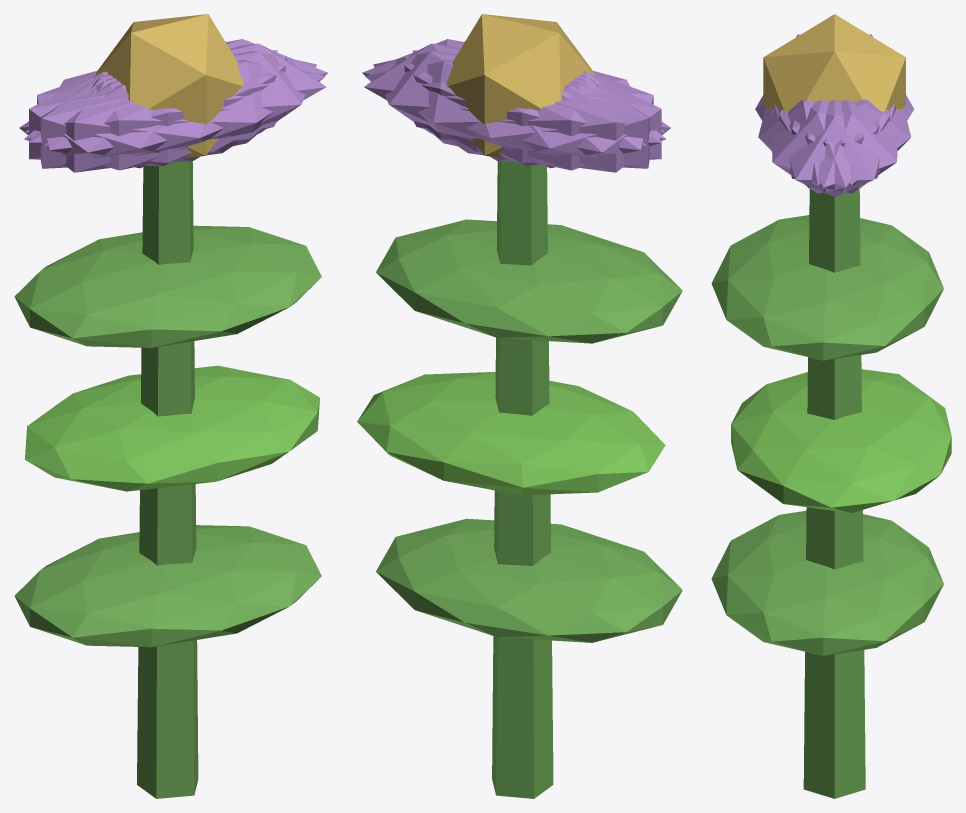
File: ficus-simplicissima.glb
3 renders of one model, left to right at view 1: azimuth 30°, elevation 25°; view 2: azimuth 150°, elevation 25°; view 3: azimuth 270°, elevation 25°, orthographic.
Visible parts, largest first — view 1: leaf2, leaf0, leaf1, stem, center, petal1, petal6, petal2, petal5, petal7, petal0, petal4 (+2 smaller); view 2: leaf2, leaf1, leaf0, stem, center, petal8, petal3, petal7, petal4, petal2, petal0, petal5 (+2 smaller); view 3: leaf2, leaf1, leaf0, stem, center, petal0, petal5, petal4, petal8, petal1.
Boxes of the visible parts, left/top/right/bottom form: leaf2: left=14, top=225, right=321, bottom=347; leaf0: left=14, top=525, right=321, bottom=647; leaf1: left=25, top=365, right=319, bottom=491; stem: left=137, top=161, right=198, bottom=798; center: left=95, top=14, right=243, bottom=158; petal1: left=24, top=59, right=325, bottom=170; petal6: left=19, top=73, right=237, bottom=172; petal2: left=40, top=50, right=277, bottom=168; petal5: left=44, top=51, right=316, bottom=162; petal7: left=29, top=56, right=286, bottom=166; petal0: left=95, top=43, right=326, bottom=152; petal4: left=25, top=39, right=327, bottom=142; leaf2: left=376, top=219, right=682, bottom=343; leaf1: left=357, top=372, right=665, bottom=495; leaf0: left=376, top=518, right=682, bottom=642; stem: left=492, top=161, right=553, bottom=798; center: left=446, top=14, right=594, bottom=158; petal8: left=365, top=59, right=666, bottom=170; petal3: left=453, top=73, right=670, bottom=172; petal7: left=412, top=50, right=649, bottom=168; petal4: left=373, top=51, right=645, bottom=162; petal2: left=404, top=56, right=661, bottom=166; petal0: left=364, top=43, right=595, bottom=152; petal5: left=362, top=39, right=664, bottom=143; leaf2: left=711, top=215, right=943, bottom=360; leaf1: left=731, top=369, right=951, bottom=512; leaf0: left=711, top=511, right=943, bottom=655; stem: left=803, top=188, right=865, bottom=798; center: left=763, top=14, right=905, bottom=111; petal0: left=773, top=100, right=895, bottom=196; petal5: left=771, top=100, right=890, bottom=193; petal4: left=779, top=100, right=897, bottom=193; petal8: left=789, top=99, right=910, bottom=185; petal1: left=758, top=99, right=879, bottom=184.
Size of the model in its own units: 0.1452 by 0.3567 by 0.1032.
